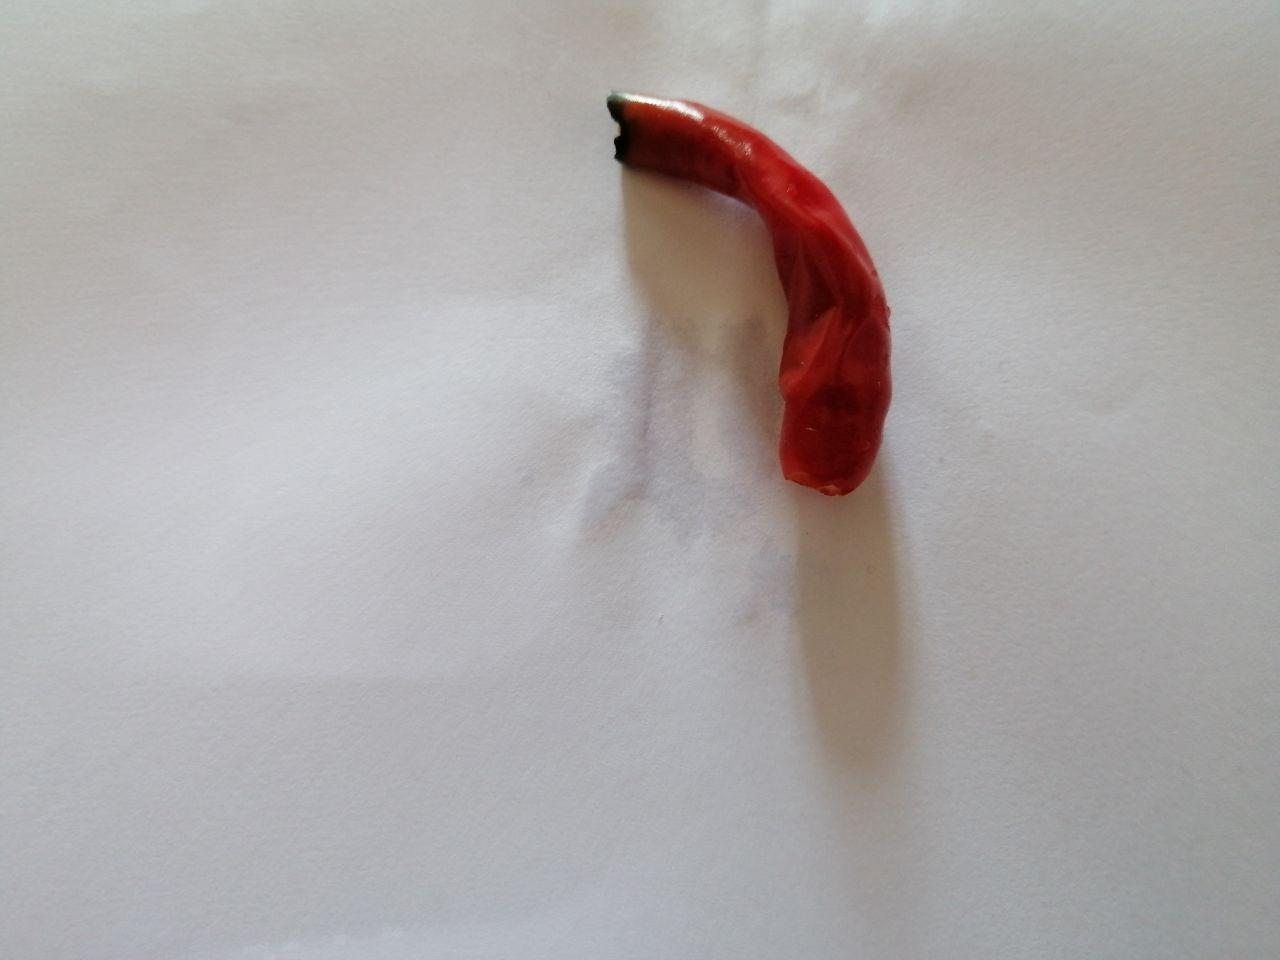lada merah: (585, 83, 928, 514)
